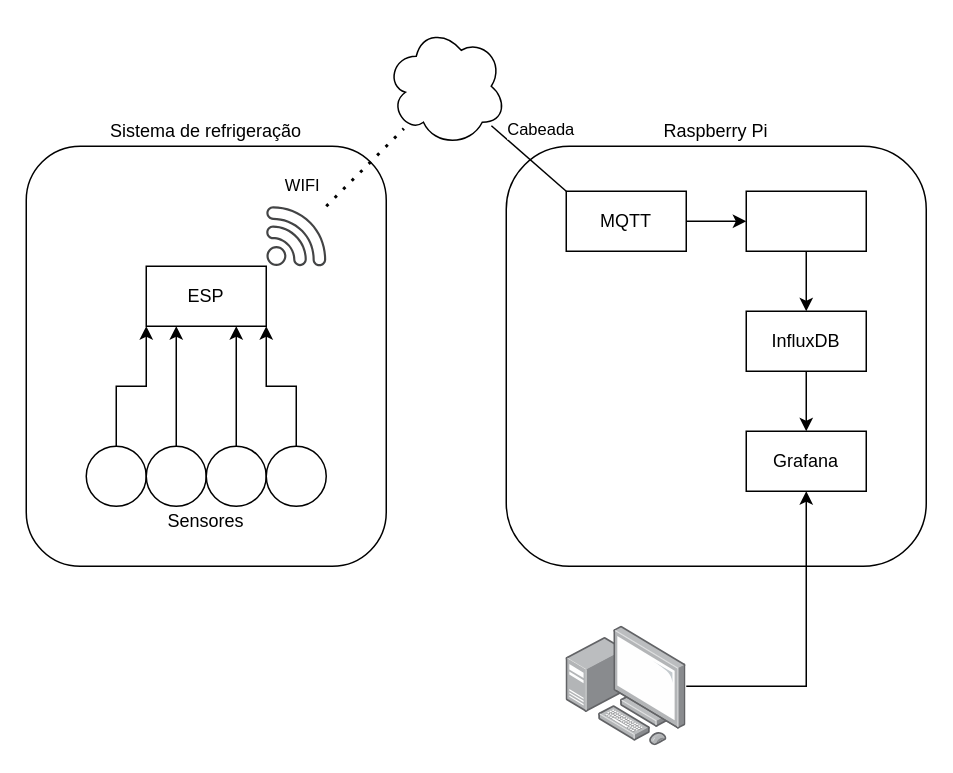
Some shapes in this 953 by 773 pixel diagram are drawn without their labels. The centre of each missing label's shape, as x and y in pixels:
"Internet" goes at point 445,85.
"Servidor NodeJS" goes at point 805,220.
